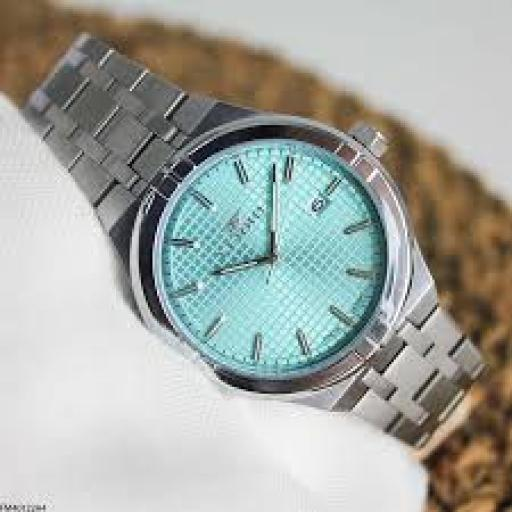KolSaati: (14, 19, 467, 464)
